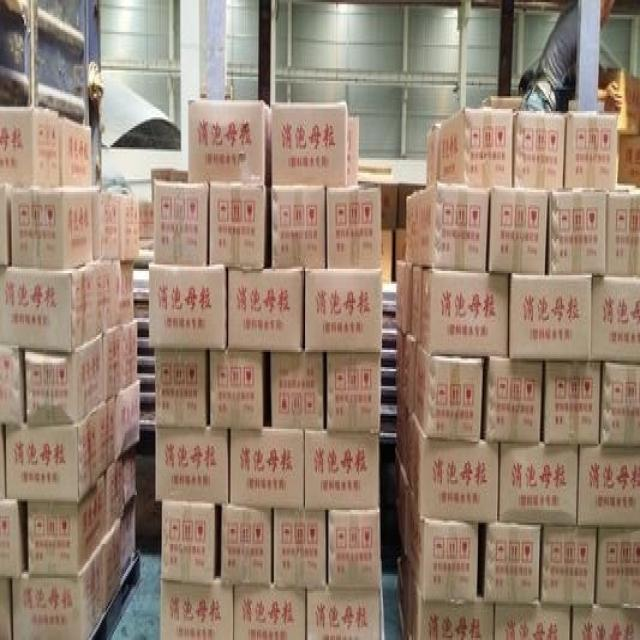box: (412, 418, 500, 523), (12, 540, 104, 640), (6, 407, 98, 503), (0, 262, 97, 352), (28, 471, 107, 576), (423, 265, 508, 358), (409, 493, 479, 604), (508, 275, 592, 363), (24, 335, 104, 427), (11, 186, 94, 271), (186, 100, 270, 183), (497, 442, 579, 527), (414, 341, 483, 442), (149, 265, 227, 350), (417, 181, 489, 271), (304, 269, 382, 352), (227, 267, 303, 352), (271, 102, 347, 186), (304, 431, 379, 510), (231, 429, 304, 508), (439, 109, 513, 186), (409, 574, 495, 640), (155, 427, 229, 503), (488, 188, 548, 275), (484, 358, 543, 444), (578, 446, 640, 527), (0, 105, 60, 188), (548, 190, 606, 275), (209, 183, 267, 267), (543, 361, 600, 444), (154, 181, 209, 267), (484, 525, 542, 606), (327, 186, 382, 269), (161, 501, 215, 585), (221, 503, 273, 589), (271, 188, 325, 269), (542, 525, 597, 604), (209, 352, 264, 431), (564, 113, 620, 190), (274, 508, 327, 589), (325, 352, 379, 431), (592, 275, 640, 363), (271, 352, 324, 431), (328, 510, 381, 589), (155, 350, 208, 427), (160, 585, 233, 640), (514, 113, 566, 188), (307, 589, 381, 640), (234, 589, 306, 640), (596, 529, 640, 608), (599, 363, 640, 446), (606, 186, 640, 277), (60, 115, 91, 188), (115, 378, 139, 461), (94, 186, 120, 260), (102, 514, 120, 610), (97, 262, 119, 333), (97, 395, 115, 476), (119, 196, 140, 262), (103, 326, 121, 399), (121, 495, 136, 580), (107, 457, 124, 531), (122, 320, 137, 390), (406, 192, 419, 262), (120, 262, 134, 324), (124, 444, 137, 510)
